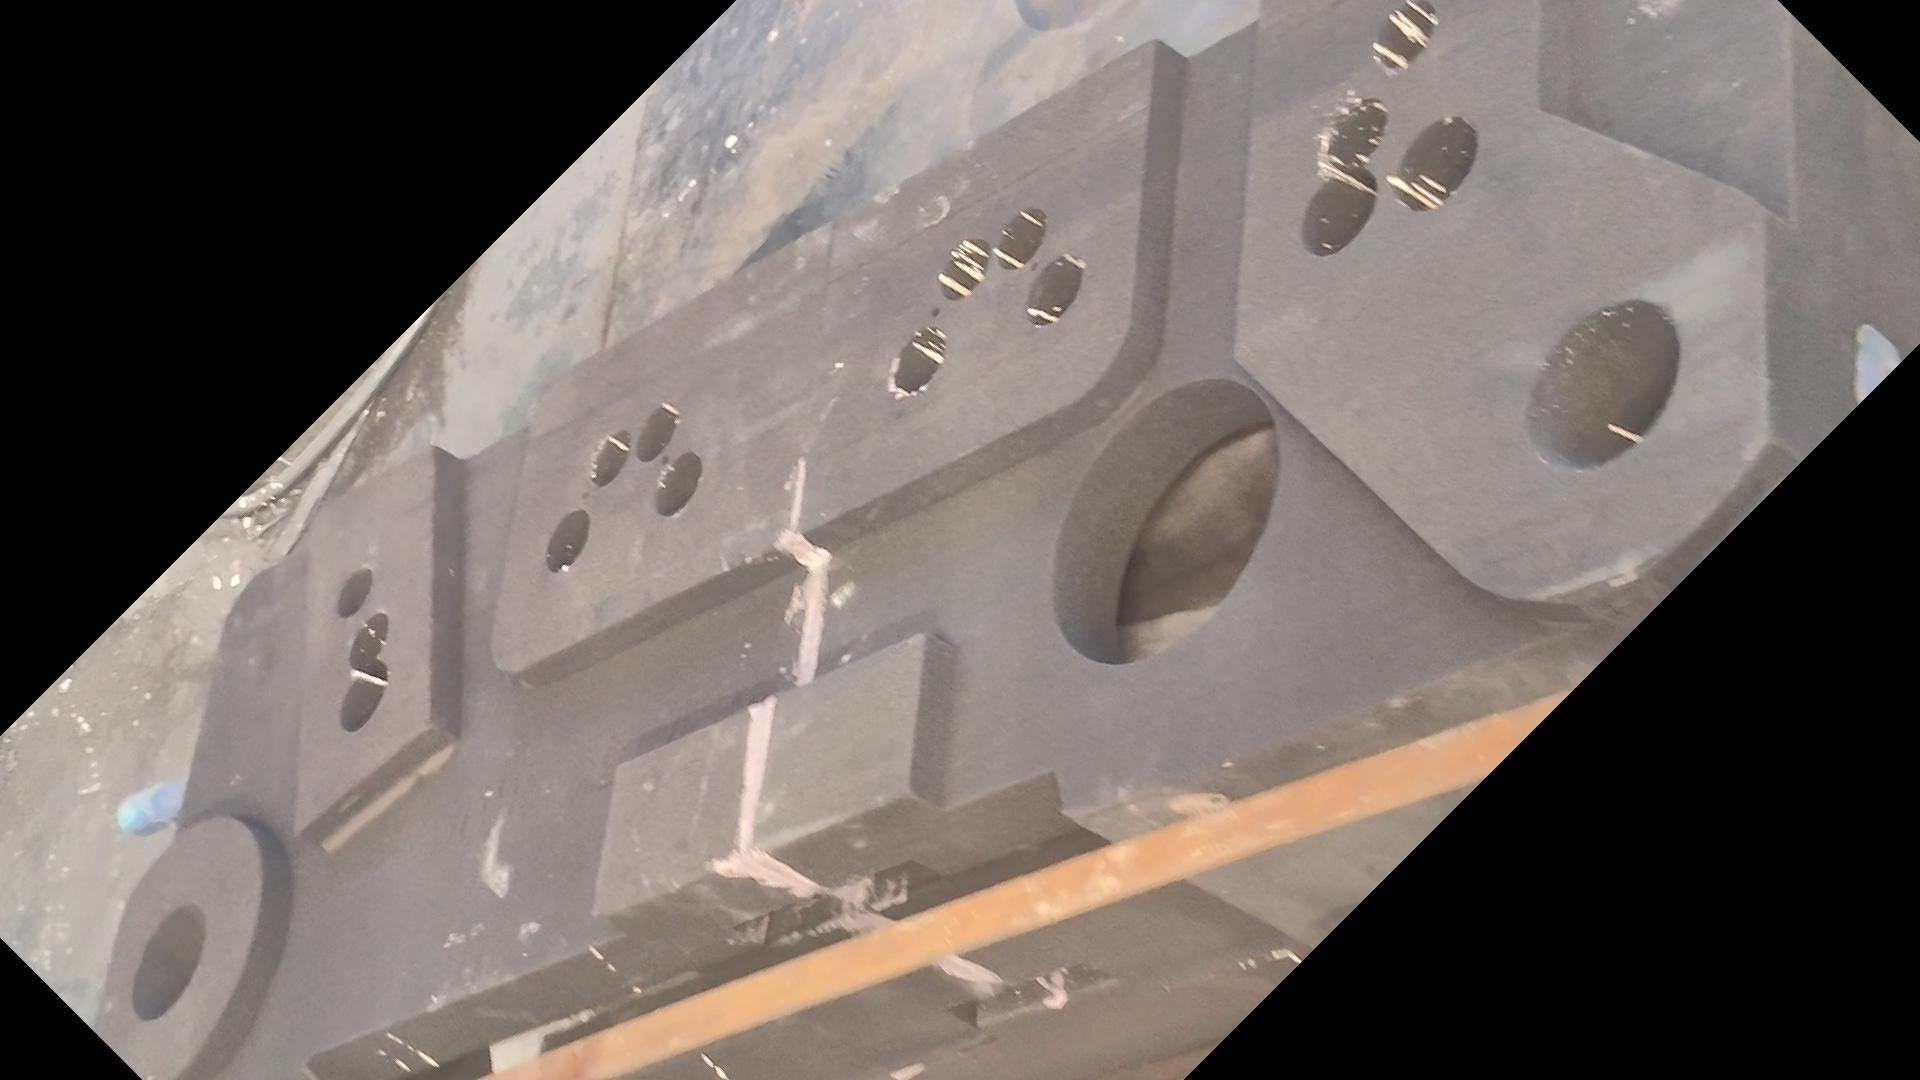pouring hole: (1522, 298, 1680, 469), (131, 903, 204, 1021)
